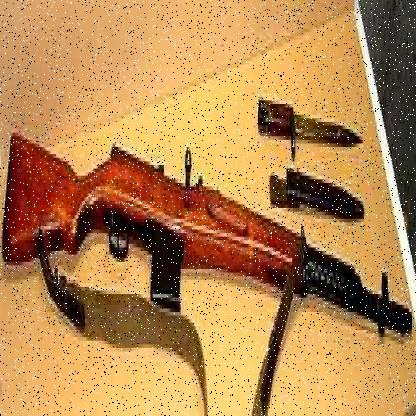rifle: (4, 107, 415, 413)
